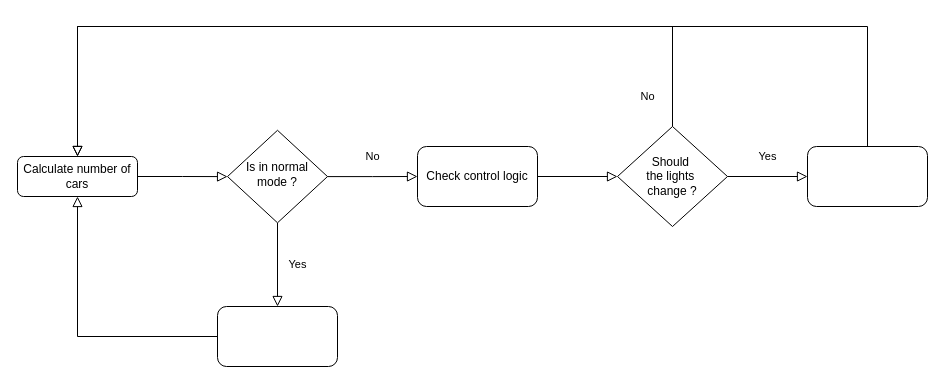
This 945x384 diagram has some shape labels left out. The shapes that lost their labels are listed below. From the top down, each one's box as (x1, y1, x2, y2) in pixels, then its label:
(806, 146, 928, 206): Alter the lights
(216, 306, 338, 366): Countdown lights
